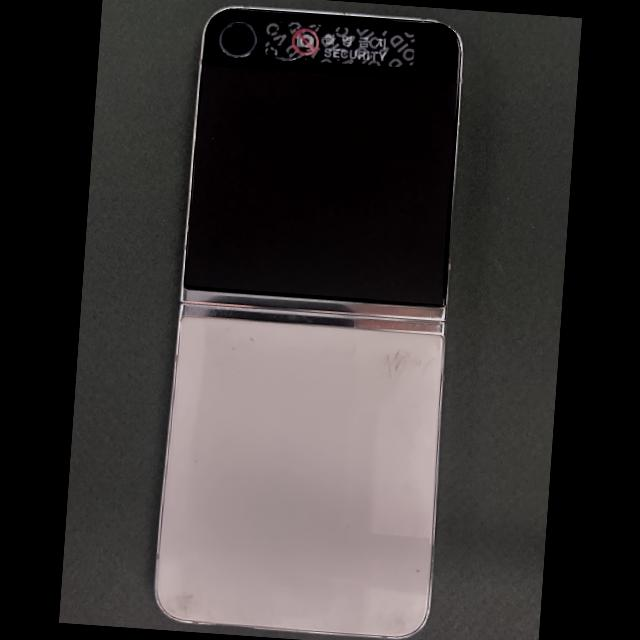lens: (220, 22, 257, 58)
phone: (156, 8, 462, 637)
sticker: (264, 20, 415, 68)
